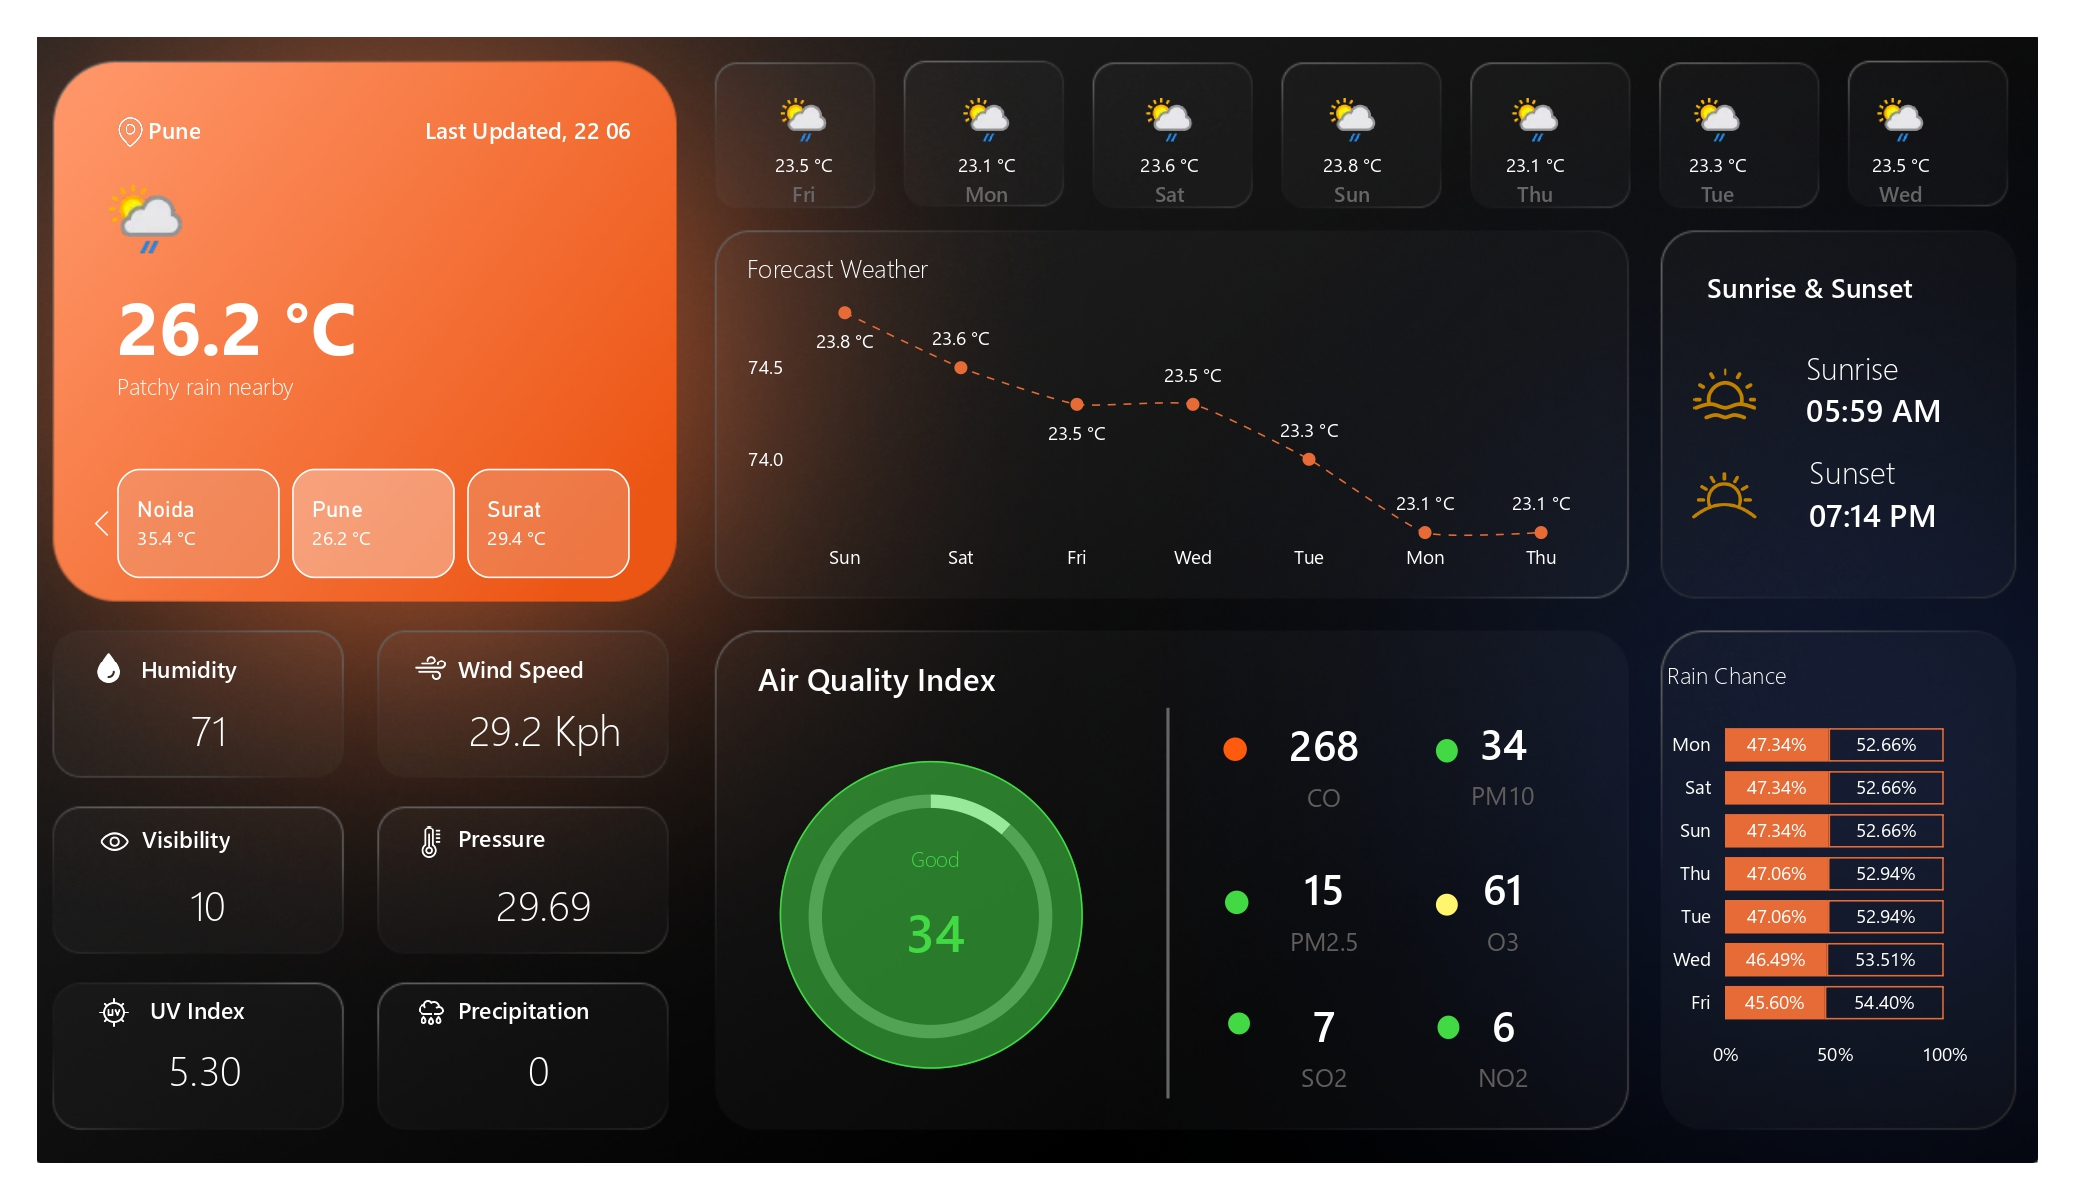

The dashboard page shown, as its layout file describes it:
{"tool":"powerbi","page":{"name":"Page 1","canvas":[1280,720],"ordinal":0},"visuals":[{"type":"donutChart","fields":{"Y":["Sum(Current.current.air_quality.pm10)","_Measures.Left_Value_PM10"]},"box":[443.3,459.9,256.8,205],"z":0},{"type":"shape","box":[474.5,462.8,194.3,197.2],"z":1000},{"type":"advancedSlicerVisual","fields":{"Values":["Locations.location.name"]},"box":[26.3,271.4,379.3,79.8],"z":2000},{"type":"shape","box":[50.6,129.6,217.9,107],"z":3000},{"type":"shape","box":[50.6,206.5,329.7,33.1],"z":4000},{"type":"shape","box":[206.2,44.7,174.1,27.2],"z":5000},{"type":"shape","box":[71,44.7,86.6,27.2],"z":6000},{"type":"image","box":[40.9,46,35.8,28.6],"z":7000},{"type":"cardVisual","fields":{"Data":["Min(Current.current.condition.icon)"]},"box":[18.4,60.3,105.2,111.3],"z":8000},{"type":"image","box":[31.7,498.5,34.7,31.7],"z":9000},{"type":"shape","box":[67.4,499.5,75.6,26.6],"z":10000},{"type":"image","box":[27.6,388.2,34.7,30.6],"z":11000},{"type":"image","box":[233.9,608.8,34.7,30.6],"z":12000},{"type":"image","box":[233.9,499.5,34.7,30.6],"z":13000},{"type":"image","box":[31.7,608.8,34.7,30.6],"z":14000},{"type":"image","box":[233.9,388.2,34.7,30.6],"z":15000},{"type":"shape","box":[66.4,390.2,75.6,26.6],"z":16000},{"type":"shape","box":[71.5,608.8,75.6,26.6],"z":17000},{"type":"shape","box":[268.7,390.2,111.3,26.6],"z":18000},{"type":"shape","box":[268.7,498.5,111.3,26.6],"z":19000},{"type":"shape","box":[268.7,608.8,111.3,26.6],"z":20000},{"type":"card","fields":{"Values":["Sum(Current.current.humidity)"]},"box":[38.8,418.8,141,50.1],"z":21000},{"type":"card","fields":{"Values":["_Measures.Wind_Speed"]},"box":[246.2,417.8,157.3,52.1],"z":22000},{"type":"card","fields":{"Values":["Sum(Current.current.pressure_in)"]},"box":[249.3,530.2,150.2,52.1],"z":23000},{"type":"card","fields":{"Values":["Sum(Current.current.vis_km)"]},"box":[33.7,530.2,150.2,52.1],"z":24000},{"type":"card","fields":{"Values":["Sum(Current.current.uv)"]},"box":[31.7,635.4,150.2,52.1],"z":25000},{"type":"card","fields":{"Values":["Sum(Current.current.precip_in)"]},"box":[246.2,635.4,150.2,52.1],"z":26000},{"type":"advancedSlicerVisual","fields":{"Values":["Forecast_Day.Day_Name"]},"box":[431.1,27.6,823.4,85],"z":27000},{"type":"lineChart","title":"Forecast Weather","fields":{"Y":["Sum(Forecast_Day.forecast.forecastday.day.avgtemp_f)"],"Category":["Forecast_Day.Day_Name"]},"box":[448.6,137.1,548.6,213.7],"z":28000},{"type":"shape","box":[1059.3,146.4,151,25.6],"z":29000},{"type":"shape","box":[1109.3,203.3,132.4,67.4],"z":30000},{"type":"shape","box":[1108.1,270.6,132.4,67.4],"z":31000},{"type":"shape","box":[1095.3,176.6,132.4,67.4],"z":32000},{"type":"shape","box":[1095,243.5,132.9,68],"z":33000},{"type":"image","box":[1005.7,203.1,147.8,50],"z":34000},{"type":"image","box":[982.3,260.5,194.6,64.9],"z":35000},{"type":"hundredPercentStackedBarChart","title":"Rain Chance","fields":{"Y":["Sum(Forecast_Day.forecast.forecastday.day.daily_chance_of_rain)","_Measures.Left_value_rain"],"Category":["Forecast_Day.Day_Name"]},"box":[1038.1,397.6,201.6,271],"z":36000},{"type":"shape","box":[441.2,376.3,191.5,67.2],"z":37000},{"type":"card","fields":{"Values":["Sum(Current.current.air_quality.pm10)"]},"box":[893.6,428.9,88.5,69.4],"z":38000},{"type":"card","fields":{"Values":["Sum(Current.current.air_quality.o3)"]},"box":[893.6,521.9,88.5,69.4],"z":39000},{"type":"card","fields":{"Values":["Sum(Current.current.air_quality.no2)"]},"box":[893.6,609.2,88.5,69.4],"z":40000},{"type":"card","fields":{"Values":["Sum(Current.current.air_quality.co)"]},"box":[779.4,430,88.5,69.4],"z":41000},{"type":"card","fields":{"Values":["Sum(Current.current.air_quality.pm2_5)"]},"box":[779.4,521.9,88.5,69.4],"z":42000},{"type":"card","fields":{"Values":["Sum(Current.current.air_quality.so2)"]},"box":[779.4,609.2,88.5,69.4],"z":43000},{"type":"shape","box":[894.8,449.1,14.6,14.6],"z":44000},{"type":"shape","box":[759.3,447.9,14.6,14.6],"z":45000},{"type":"shape","box":[760.4,546.5,14.6,14.6],"z":46000},{"type":"shape","box":[761.5,623.8,14.6,14.6],"z":47000},{"type":"shape","box":[894.8,547.6,14.6,14.6],"z":48000},{"type":"shape","box":[895.9,626,14.6,14.6],"z":49000},{"type":"shape","box":[628.2,428.9,190.4,249.7],"z":50000},{"type":"card","fields":{"Values":["Sum(Current.current.air_quality.pm10)"]},"box":[521.4,517.5,106.4,93.7],"z":51000}]}

Visuals, with their boxes on the page's 1280x720 design canvas (x1, y1, x2, y2). These are canvas units, not pixel positions in the 2075x1200 screenshot, which may show the page scaled, cropped or inside an application window:
donutChart - Sum(Current.current.air_quality.pm10) x _Measures.Left_Value_PM10: (x1=443, y1=460, x2=700, y2=665)
shape: (x1=474, y1=463, x2=669, y2=660)
advancedSlicerVisual - Locations.location.name: (x1=26, y1=271, x2=406, y2=351)
shape: (x1=51, y1=130, x2=268, y2=237)
shape: (x1=51, y1=206, x2=380, y2=240)
shape: (x1=206, y1=45, x2=380, y2=72)
shape: (x1=71, y1=45, x2=158, y2=72)
image: (x1=41, y1=46, x2=77, y2=75)
cardVisual - Min(Current.current.condition.icon): (x1=18, y1=60, x2=124, y2=172)
image: (x1=32, y1=498, x2=66, y2=530)
shape: (x1=67, y1=500, x2=143, y2=526)
image: (x1=28, y1=388, x2=62, y2=419)
image: (x1=234, y1=609, x2=269, y2=639)
image: (x1=234, y1=500, x2=269, y2=530)
image: (x1=32, y1=609, x2=66, y2=639)
image: (x1=234, y1=388, x2=269, y2=419)
shape: (x1=66, y1=390, x2=142, y2=417)
shape: (x1=72, y1=609, x2=147, y2=635)
shape: (x1=269, y1=390, x2=380, y2=417)
shape: (x1=269, y1=498, x2=380, y2=525)
shape: (x1=269, y1=609, x2=380, y2=635)
card - Sum(Current.current.humidity): (x1=39, y1=419, x2=180, y2=469)
card - _Measures.Wind_Speed: (x1=246, y1=418, x2=404, y2=470)
card - Sum(Current.current.pressure_in): (x1=249, y1=530, x2=400, y2=582)
card - Sum(Current.current.vis_km): (x1=34, y1=530, x2=184, y2=582)
card - Sum(Current.current.uv): (x1=32, y1=635, x2=182, y2=688)
card - Sum(Current.current.precip_in): (x1=246, y1=635, x2=396, y2=688)
advancedSlicerVisual - Forecast_Day.Day_Name: (x1=431, y1=28, x2=1254, y2=113)
"Forecast Weather" lineChart: (x1=449, y1=137, x2=997, y2=351)
shape: (x1=1059, y1=146, x2=1210, y2=172)
shape: (x1=1109, y1=203, x2=1242, y2=271)
shape: (x1=1108, y1=271, x2=1240, y2=338)
shape: (x1=1095, y1=177, x2=1228, y2=244)
shape: (x1=1095, y1=244, x2=1228, y2=312)
image: (x1=1006, y1=203, x2=1154, y2=253)
image: (x1=982, y1=260, x2=1177, y2=325)
"Rain Chance" hundredPercentStackedBarChart: (x1=1038, y1=398, x2=1240, y2=669)
shape: (x1=441, y1=376, x2=633, y2=444)
card - Sum(Current.current.air_quality.pm10): (x1=894, y1=429, x2=982, y2=498)
card - Sum(Current.current.air_quality.o3): (x1=894, y1=522, x2=982, y2=591)
card - Sum(Current.current.air_quality.no2): (x1=894, y1=609, x2=982, y2=679)
card - Sum(Current.current.air_quality.co): (x1=779, y1=430, x2=868, y2=499)
card - Sum(Current.current.air_quality.pm2_5): (x1=779, y1=522, x2=868, y2=591)
card - Sum(Current.current.air_quality.so2): (x1=779, y1=609, x2=868, y2=679)
shape: (x1=895, y1=449, x2=909, y2=464)
shape: (x1=759, y1=448, x2=774, y2=462)
shape: (x1=760, y1=546, x2=775, y2=561)
shape: (x1=762, y1=624, x2=776, y2=638)
shape: (x1=895, y1=548, x2=909, y2=562)
shape: (x1=896, y1=626, x2=910, y2=641)
shape: (x1=628, y1=429, x2=819, y2=679)
card - Sum(Current.current.air_quality.pm10): (x1=521, y1=518, x2=628, y2=611)
